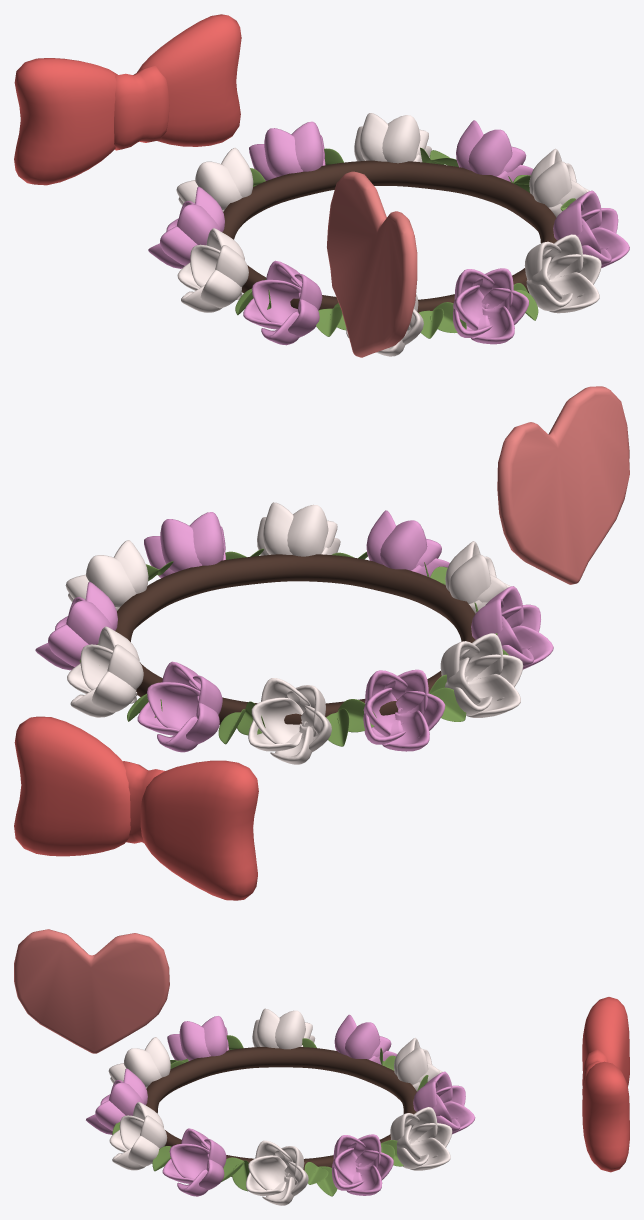
The model's file is FlowerCrown_Bow_Heart.fbx.
3 views of the same model, one above another, from view 1: azimuth 30°, elevation 25°; view 2: azimuth 150°, elevation 25°; view 3: azimuth 270°, elevation 25° (orthographic). The views are drawn at different scales.
Visible parts, largest first — view 1: BezierCircle.001, Plane.096, Plane.129; view 2: BezierCircle.001, Plane.096, Plane.129; view 3: BezierCircle.001, Plane.129, Plane.096.
Part boxes in pixels (box(x1,y1,x2,y2)): BezierCircle.001: box(148, 113, 629, 356); Plane.096: box(14, 14, 241, 185); Plane.129: box(327, 171, 417, 357); BezierCircle.001: box(35, 502, 553, 764); Plane.096: box(14, 716, 258, 900); Plane.129: box(497, 386, 629, 584); BezierCircle.001: box(86, 1008, 475, 1205); Plane.129: box(14, 929, 169, 1053); Plane.096: box(582, 997, 629, 1172).
Bounding box in the file's own units: 38.54 × 19.34 × 60.96.
